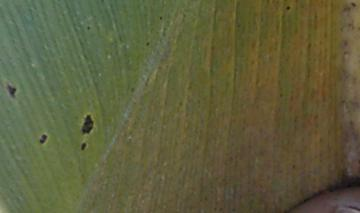tarspot: (79, 114, 94, 135), (3, 81, 18, 99), (38, 133, 48, 145), (79, 141, 87, 152), (347, 118, 355, 126), (350, 1, 358, 9), (306, 41, 313, 50), (284, 4, 291, 12), (144, 40, 151, 47), (290, 163, 297, 170), (158, 14, 163, 23), (85, 24, 91, 31), (129, 86, 135, 93), (278, 91, 283, 99), (340, 98, 345, 104)
